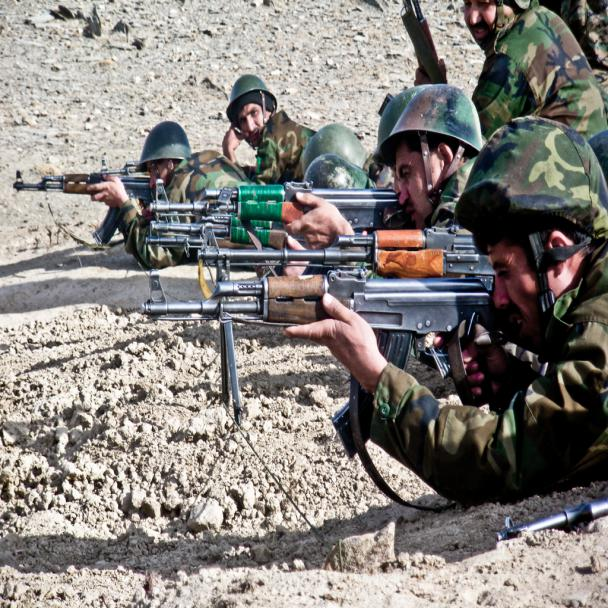Gun: (130, 218, 504, 330), (161, 181, 400, 239), (2, 158, 157, 216)
Hand: (284, 289, 397, 389), (292, 181, 365, 250)
